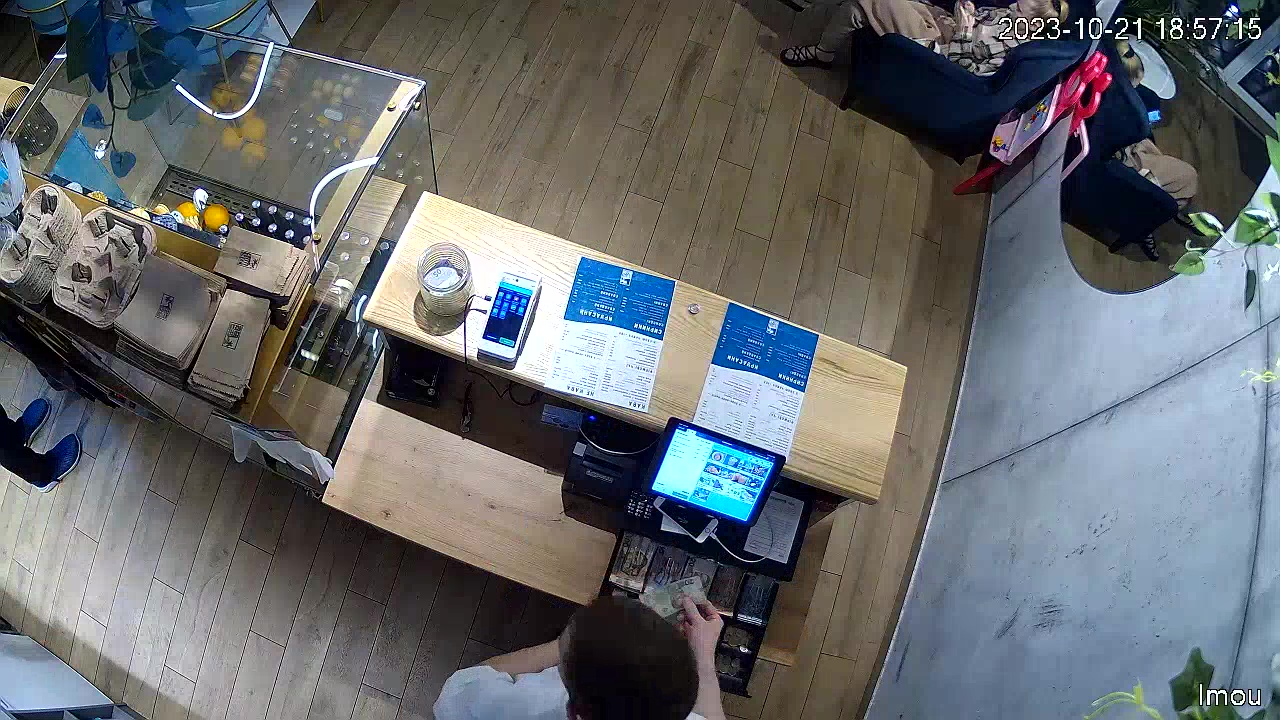openedcash: (621, 504, 733, 627)
